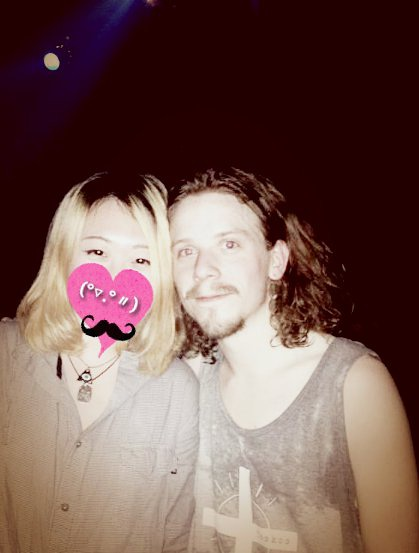face: (65, 201, 159, 351), (172, 193, 266, 334)
